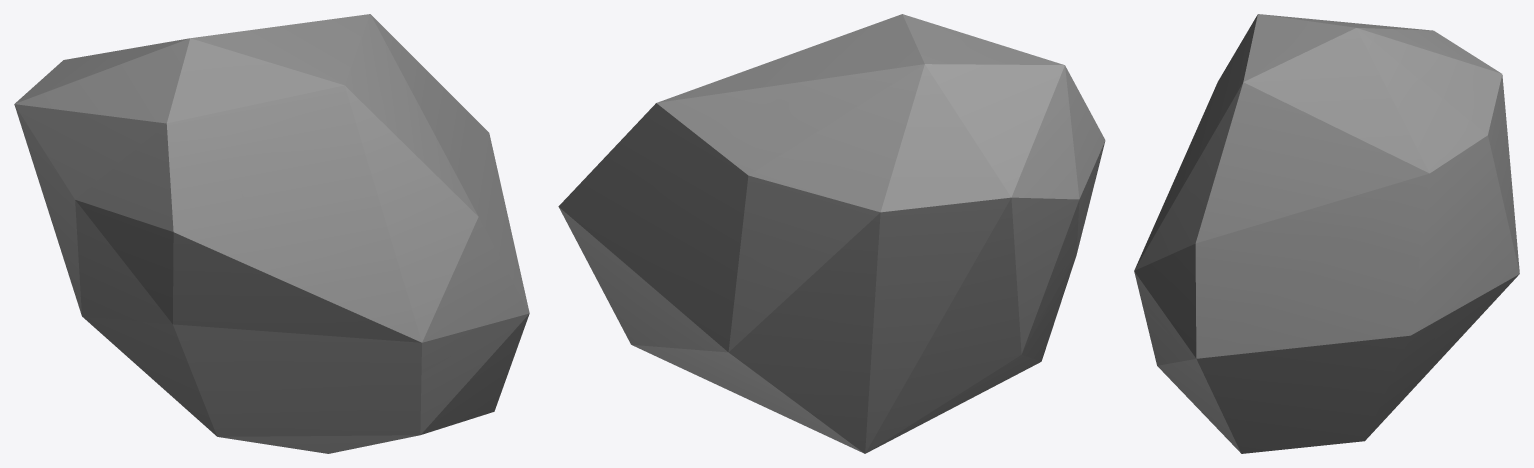
The model's file is rock_big_round.fbx.
3 renders of one model, left to right at view 1: azimuth 30°, elevation 25°; view 2: azimuth 150°, elevation 25°; view 3: azimuth 270°, elevation 25°, orthographic. The views are drawn at different scales.
Visible parts, largest first — view 1: rock_big_round; view 2: rock_big_round; view 3: rock_big_round.
Part boxes in pixels (x1,y1,x2,y2): rock_big_round: (14,14,529,453); rock_big_round: (558,14,1105,453); rock_big_round: (1134,14,1519,453).
Bounding box in the file's own units: 2.5 × 2 × 2.1.
Materials: 1 (1 with a texture image).
